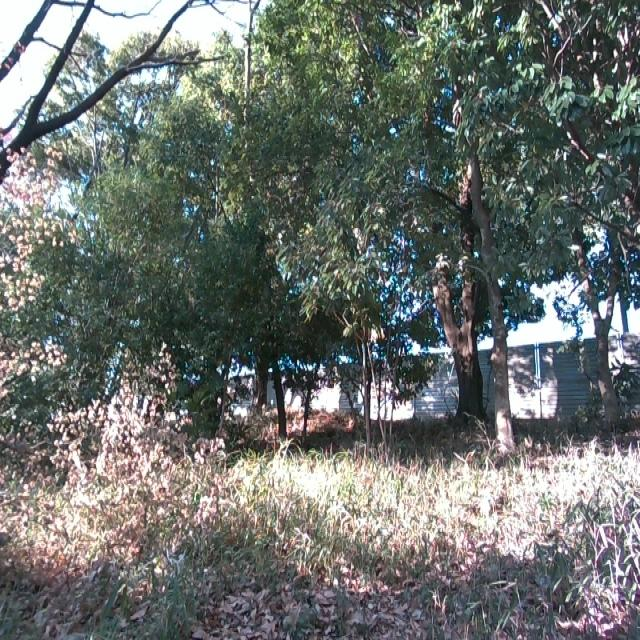bush: (0, 350, 237, 628), (0, 147, 78, 423)
tree: (0, 0, 232, 177), (456, 30, 535, 452), (398, 163, 490, 454), (565, 199, 635, 451), (341, 317, 391, 458), (262, 307, 292, 446)
